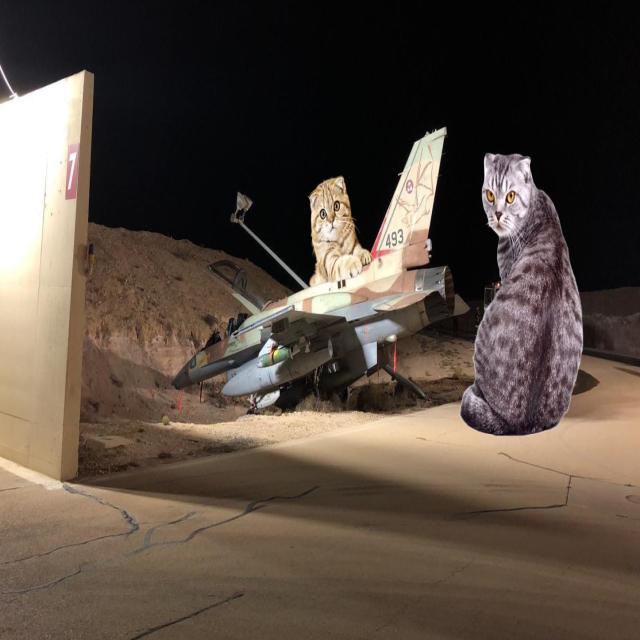MIL_Plane: (172, 126, 470, 414)
